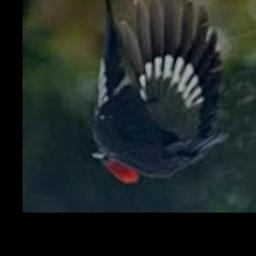Woodpecker: (92, 0, 229, 184)
